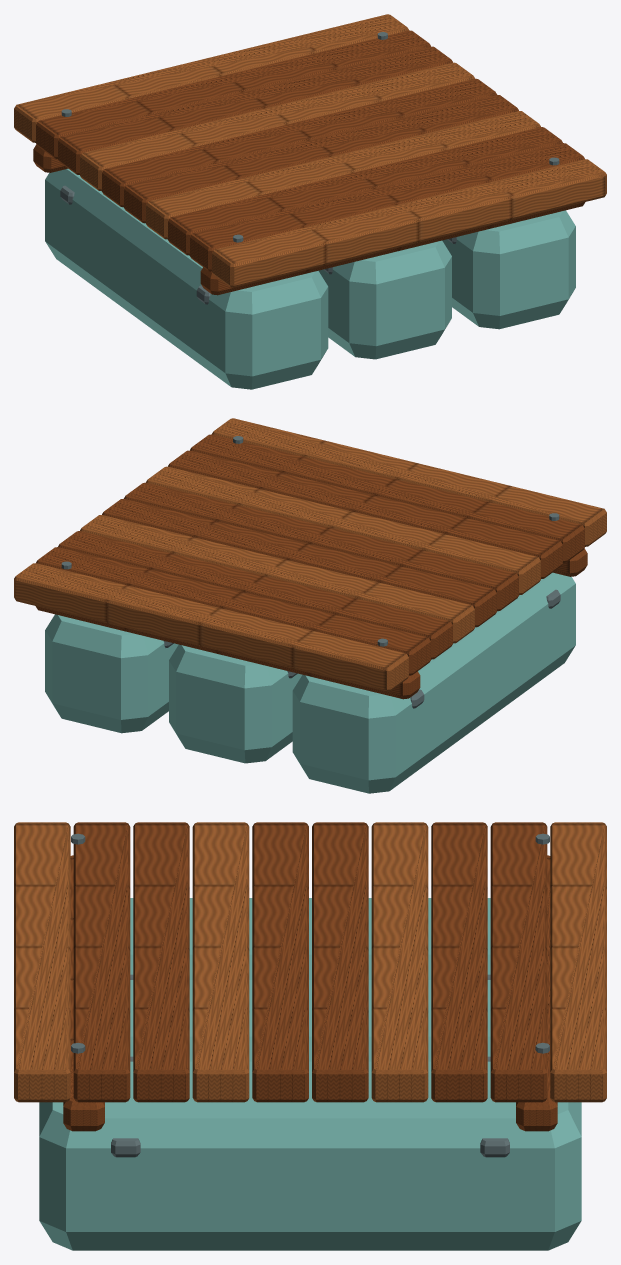
The model's file is ocean-raft-settlement-ocean-raft-settlement-buoyant-sq-581d1c91__28893.glb.
The picture shows the model from 3 angles, top to bottom: view 1: azimuth 30°, elevation 25°; view 2: azimuth 150°, elevation 25°; view 3: azimuth 270°, elevation 25°; orthographic projection. The views are drawn at different scales.
Visible parts, largest first — view 1: wood, teal, pale, iron; view 2: wood, teal, pale, iron; view 3: wood, teal, pale, iron.
Part boxes in pixels (bbox=[...]): wood: bbox=[33, 30, 585, 295]; teal: bbox=[45, 168, 575, 389]; pale: bbox=[14, 14, 606, 287]; iron: bbox=[60, 32, 559, 304]; wood: bbox=[35, 434, 587, 699]; teal: bbox=[45, 572, 575, 793]; pale: bbox=[14, 418, 606, 691]; iron: bbox=[61, 436, 560, 708]; wood: bbox=[63, 822, 557, 1131]; teal: bbox=[39, 898, 581, 1250]; pale: bbox=[14, 822, 606, 1102]; iron: bbox=[71, 833, 549, 1157].
Size of the model in its own units: 1.98 by 0.738 by 1.99.
Materials: 5 (2 with a texture image).
